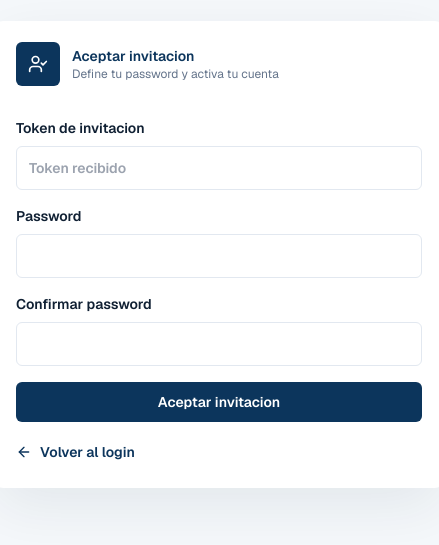
Test: UserInvitations › accepts an invitation and stores session tokens
Type "local-token" into the field labelled "Token de invitacion". click: (219,168)
box: [16,146,422,190]
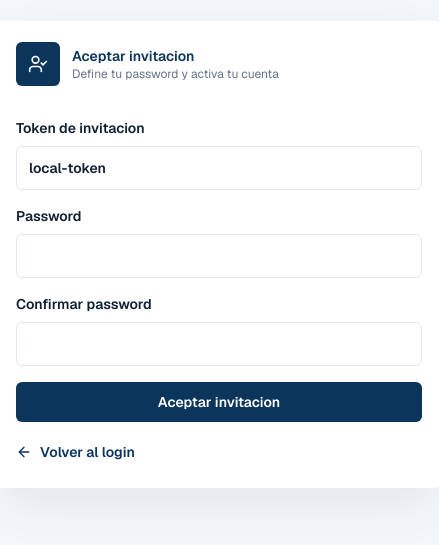
Type "InvitedLawyer123!" into the password field labelled "Password". click: (219,256)
box: [16,234,422,278]
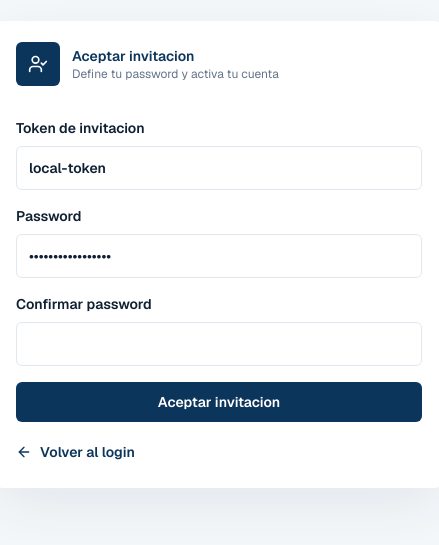
Type "InvitedLawyer123!" into the password field labelled "Confirmar password". click: (219,344)
box: [16,322,422,366]
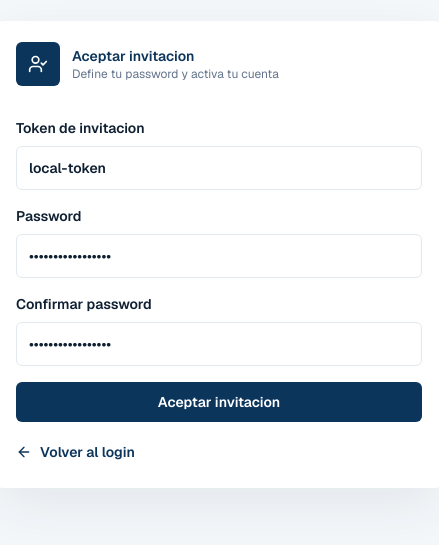
Click the button "Aceptar invitacion". click: (219,402)
box: [16,382,422,422]
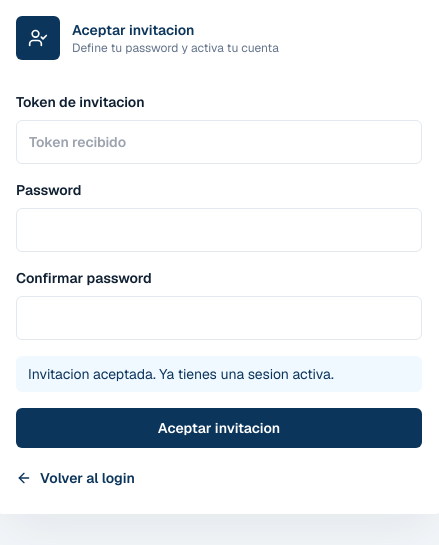
Result: the text "Invitacion aceptada. Ya tienes una sesion activa." is shown at [16,356,422,392]
